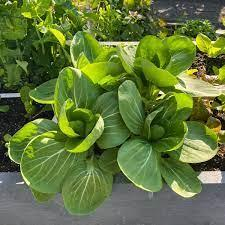Healthy-Pechay: (27, 32, 194, 195)
